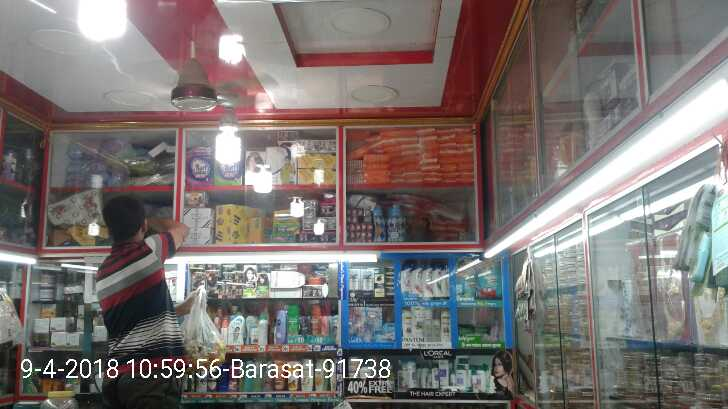venus: (353, 308, 379, 339), (382, 322, 394, 338)
